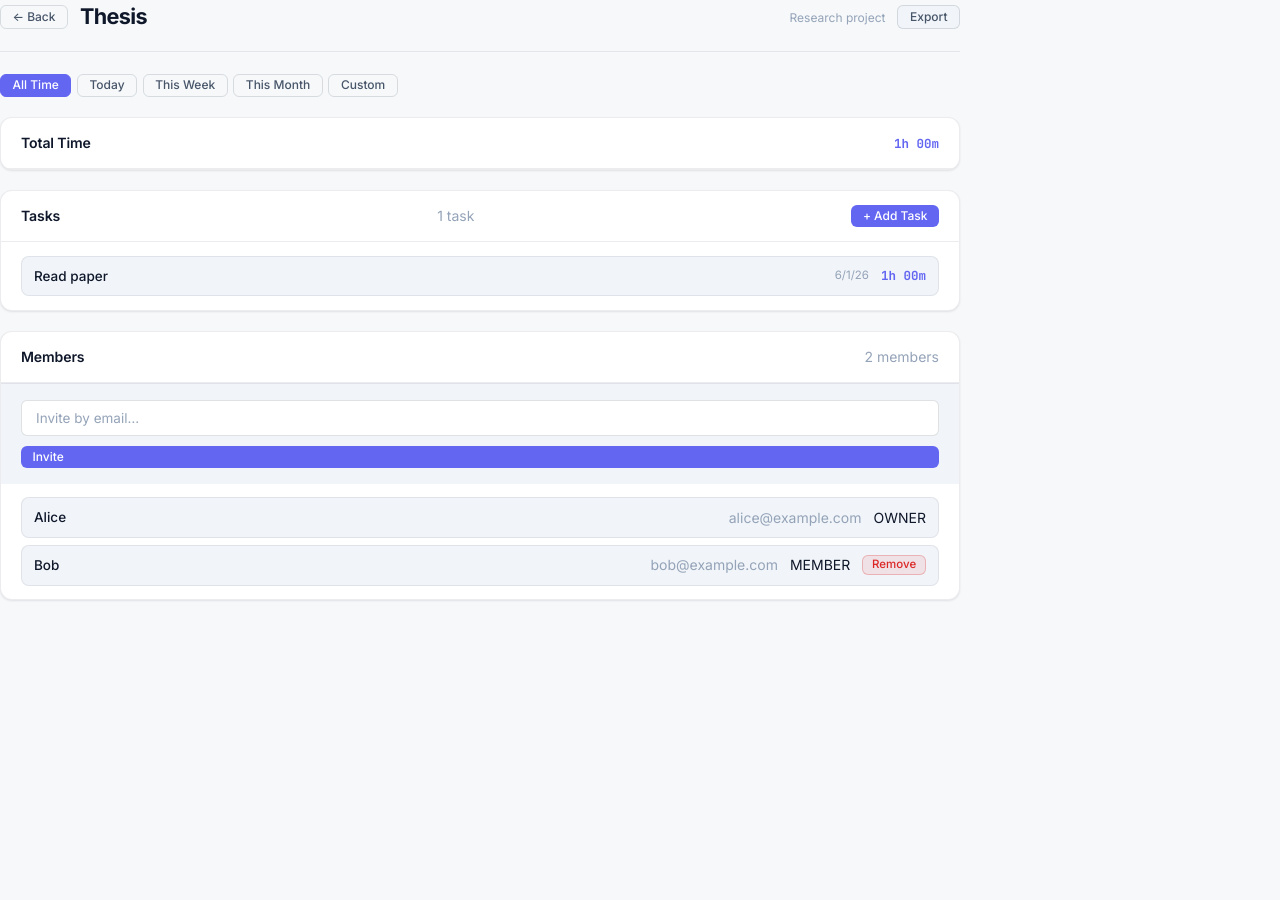
Test: ProjectDetailPage › opens export modal when export button is clicked
Click the button with test id "export-btn" at (929, 17), box x1=898 y1=5 x2=960 y2=28
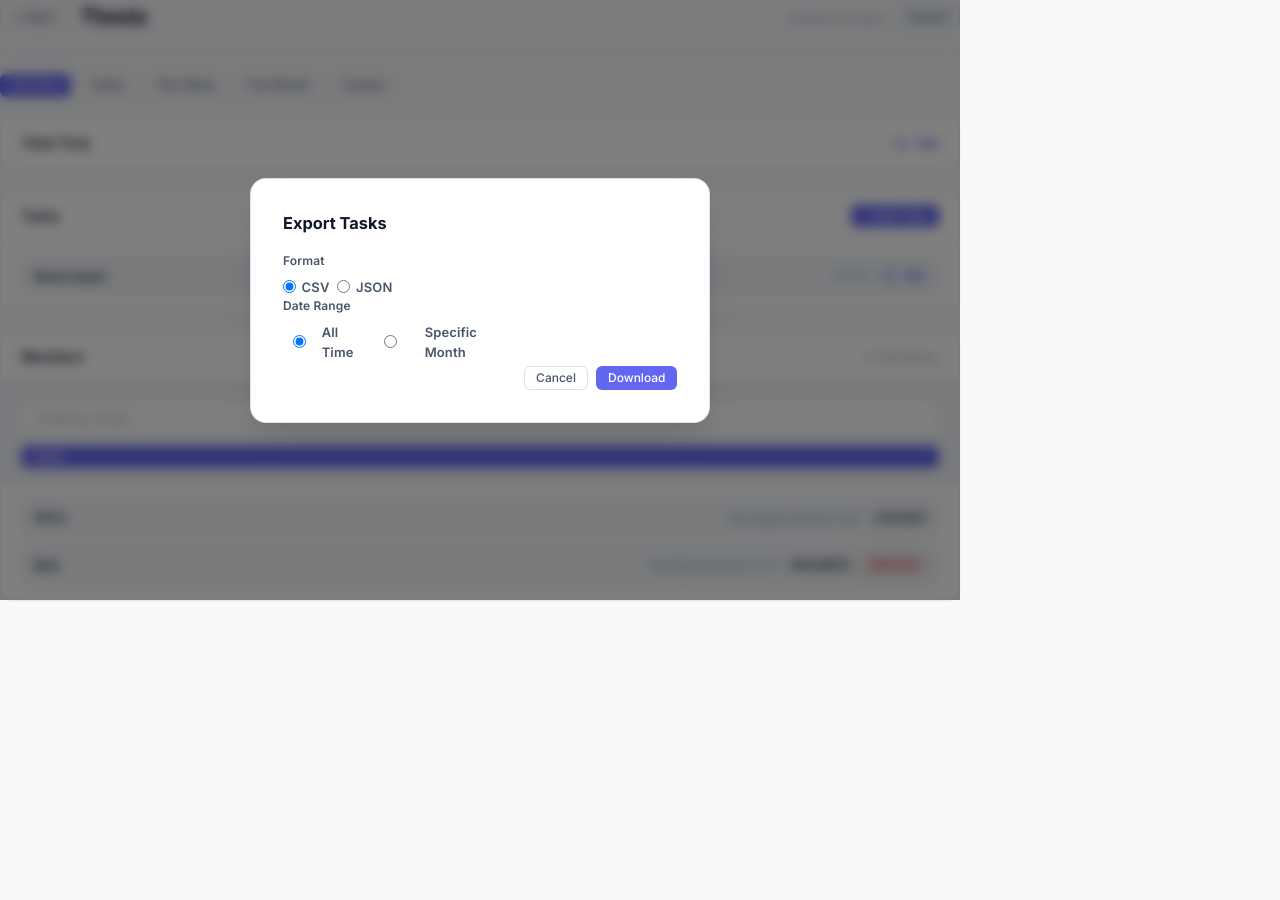
Expected: the element with test id "export-modal" is shown, x1=0 y1=0 x2=960 y2=600
